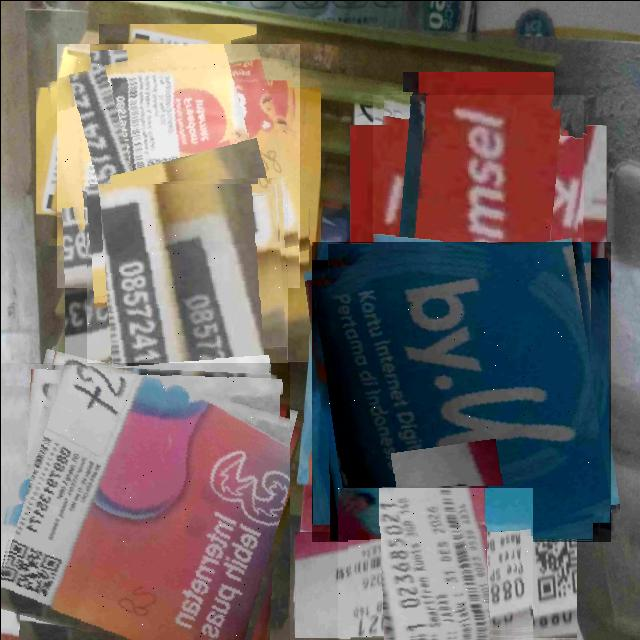Indosat-3: (0, 362, 289, 640)
Telkomsel: (372, 94, 583, 305)
byu: (311, 241, 610, 541)
im3: (56, 43, 299, 287), (86, 183, 287, 384)
smartfren: (337, 487, 532, 640)
